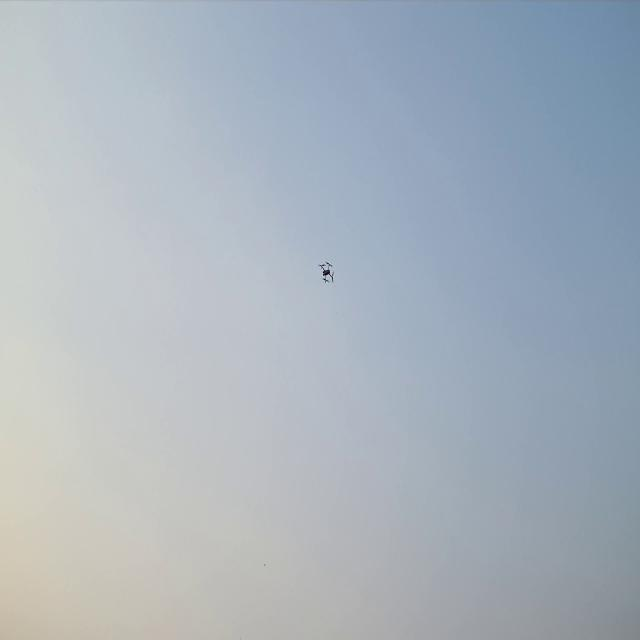UAV: (318, 259, 336, 286)
